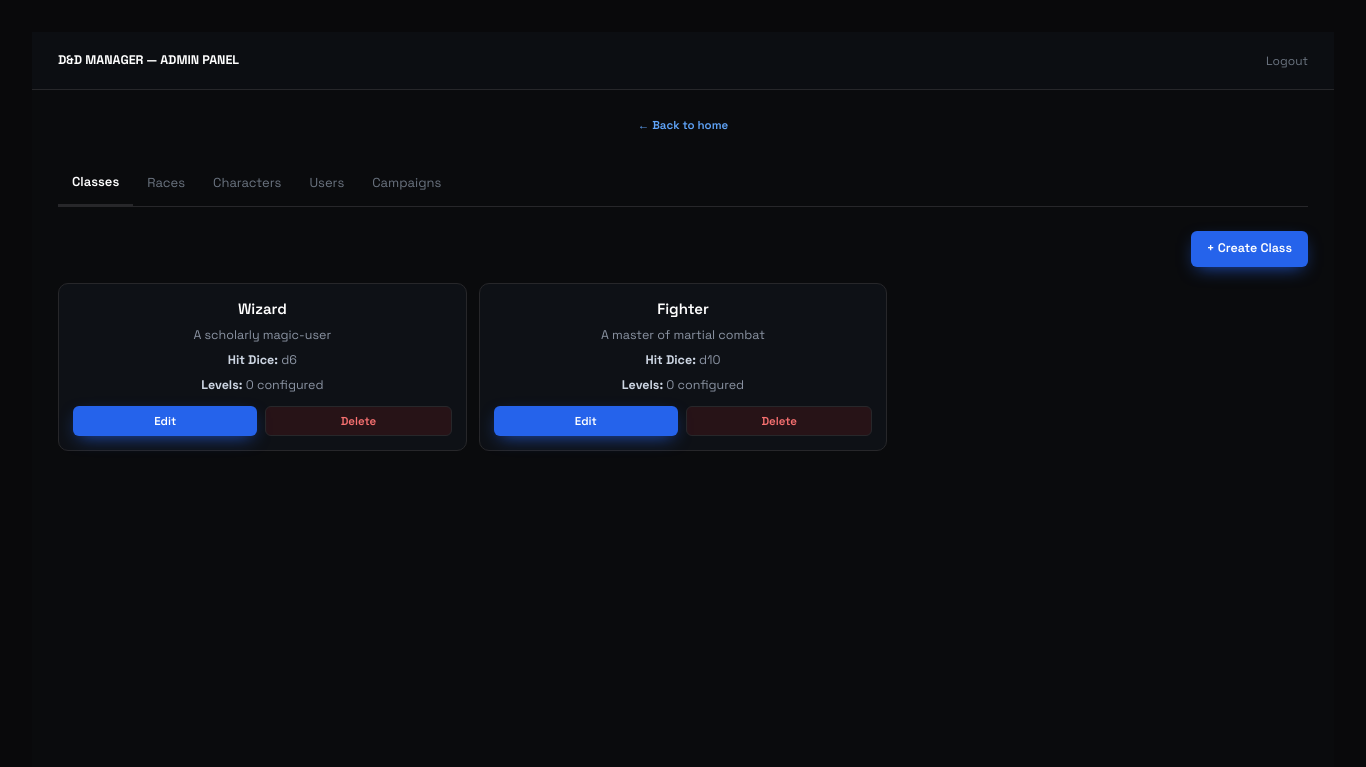
Test case: AdminPanel — Classes saving throws › renders all 6 saving throw checkboxes in create class form
This screenshot has width=1366, height=767.
Expected: the heading "Wizard" is shown, [238,298,287,318]
Click the button "+ Create Class": (1249, 248) [1191,230,1308,266]
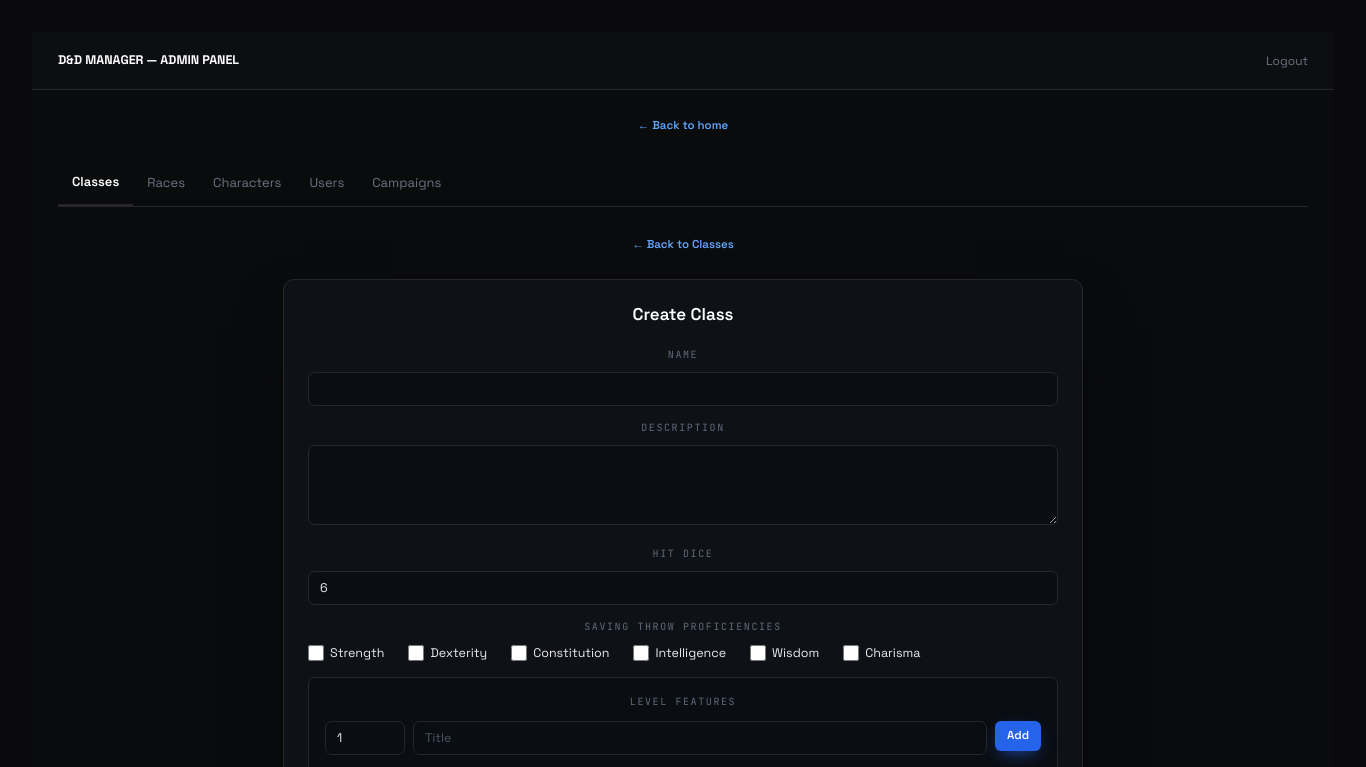
Now the checkbox labelled "Strength" is shown, box [308,645,324,661]
Now the checkbox labelled "Dexterity" is shown, box [408,645,424,661]
Now the checkbox labelled "Constitution" is shown, box [511,645,527,661]
